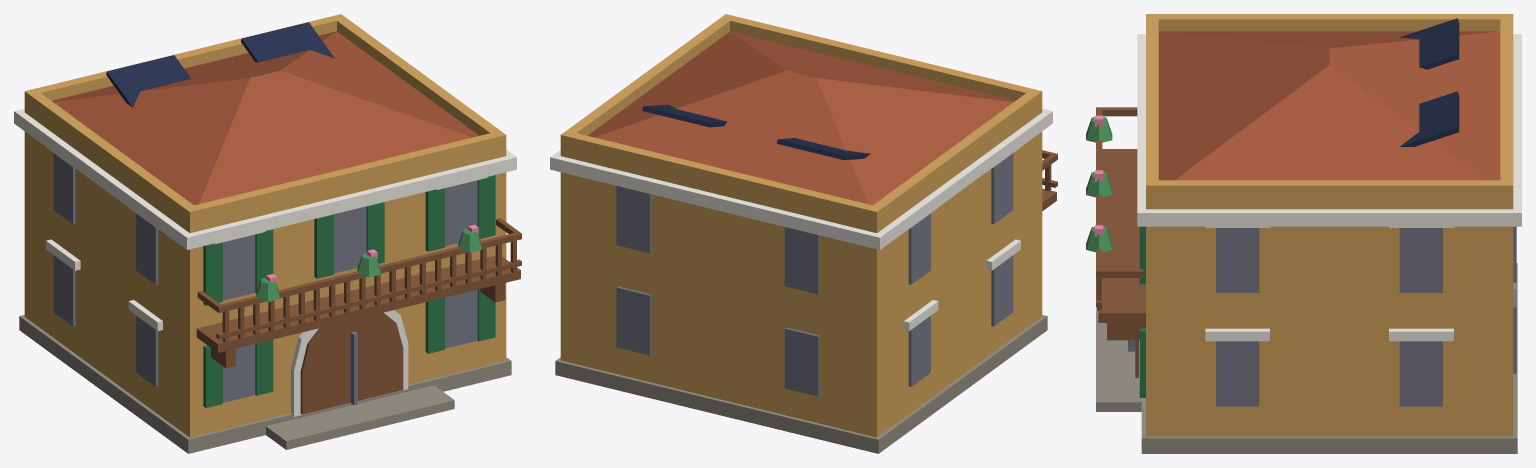
Rendered from house-1x1-2f-colonial-a-solar.glb.
3 views of the same model, side by side, from view 1: azimuth 30°, elevation 25°; view 2: azimuth 150°, elevation 25°; view 3: azimuth 270°, elevation 25° (orthographic). The views are drawn at different scales.
Parts seen in each view (by area): view 1: house-1x1-2f-colonial-a-solar; view 2: house-1x1-2f-colonial-a-solar; view 3: house-1x1-2f-colonial-a-solar.
Boxes of the visible parts, box(x1,y1,x2,y2) form: house-1x1-2f-colonial-a-solar: box(14, 14, 521, 453); house-1x1-2f-colonial-a-solar: box(550, 14, 1057, 453); house-1x1-2f-colonial-a-solar: box(1086, 14, 1521, 453).
Bounding box in the file's own units: 0.98 × 0.79 × 1.01.
1 material, 1 textured.
